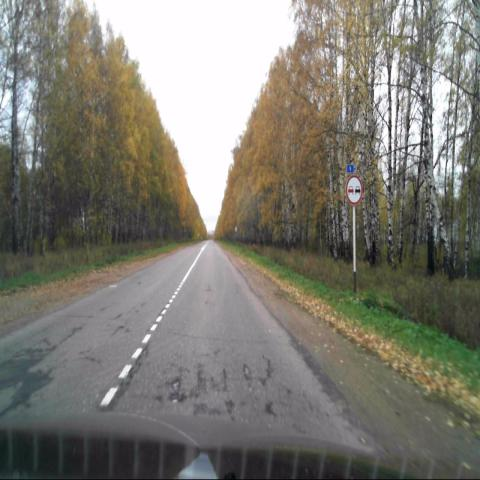3_20: (345, 174, 363, 206)
